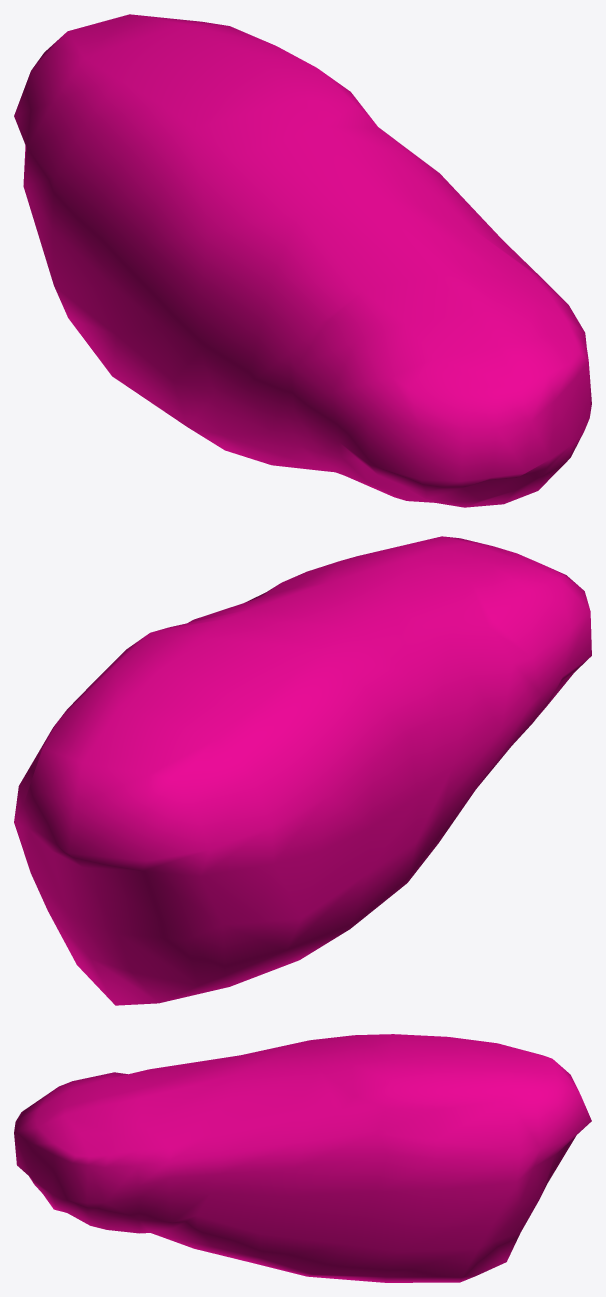
The model's file is Rock_Small_01_Lod0.fbx.
3 renders of one model, top to bottom at view 1: azimuth 30°, elevation 25°; view 2: azimuth 150°, elevation 25°; view 3: azimuth 270°, elevation 25°, orthographic. The views are drawn at different scales.
Parts seen in each view (by area): view 1: Rock_Small_01_Lod0; view 2: Rock_Small_01_Lod0; view 3: Rock_Small_01_Lod0.
Boxes of the visible parts, x1,y1,x2,y2 form: Rock_Small_01_Lod0: (14,14,591,507); Rock_Small_01_Lod0: (14,536,591,1005); Rock_Small_01_Lod0: (14,1034,591,1282).
Size of the model in its own units: 752 by 783 by 1961.
